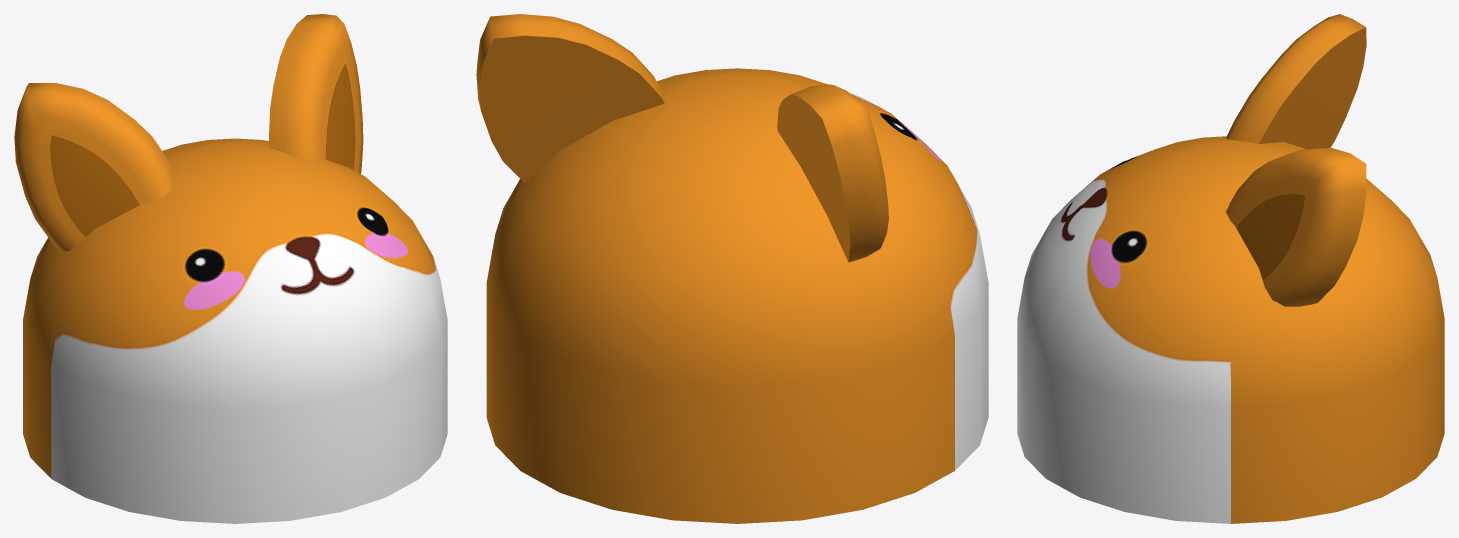
Rendered from Candy_FoxHead-A.FBX.
3 renders of one model, left to right at view 1: azimuth 30°, elevation 25°; view 2: azimuth 150°, elevation 25°; view 3: azimuth 270°, elevation 25°, orthographic. The views are drawn at different scales.
Parts seen in each view (by area): view 1: Candy_FoxHead-A; view 2: Candy_FoxHead-A; view 3: Candy_FoxHead-A.
Boxes of the visible parts, x1,y1,x2,y2 form: Candy_FoxHead-A: (14, 14, 447, 523); Candy_FoxHead-A: (476, 14, 988, 523); Candy_FoxHead-A: (1017, 14, 1444, 523).
Size of the model in its own units: 3016 by 2681 by 3016.
1 material, 1 textured.
